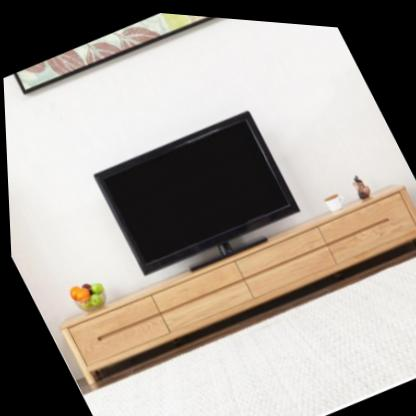TV stand: (45, 147, 416, 408)
